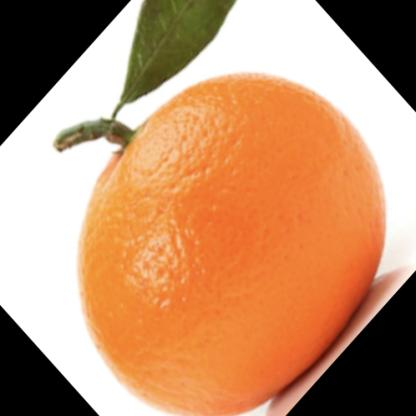fresh: (80, 73, 383, 412)
